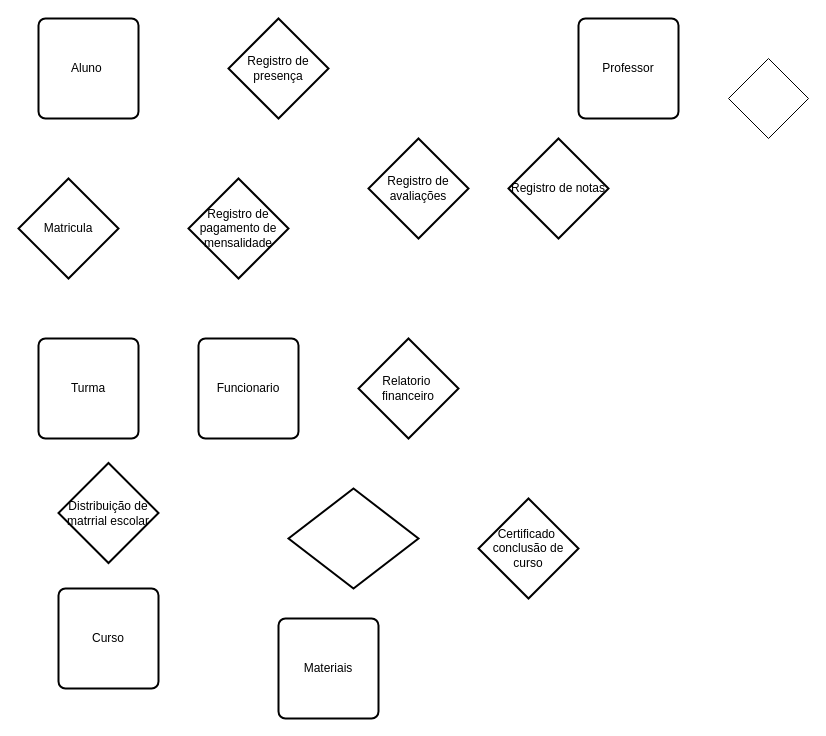
The diagram is 826 pixels wide and 736 high, and some of its shapes have lost their labels. Here are the shapes that lost their labels. From the top down, the box of each, then its label:
(728, 58, 808, 138): Relatório de notas
(287, 487, 419, 589): Cadastra materias
